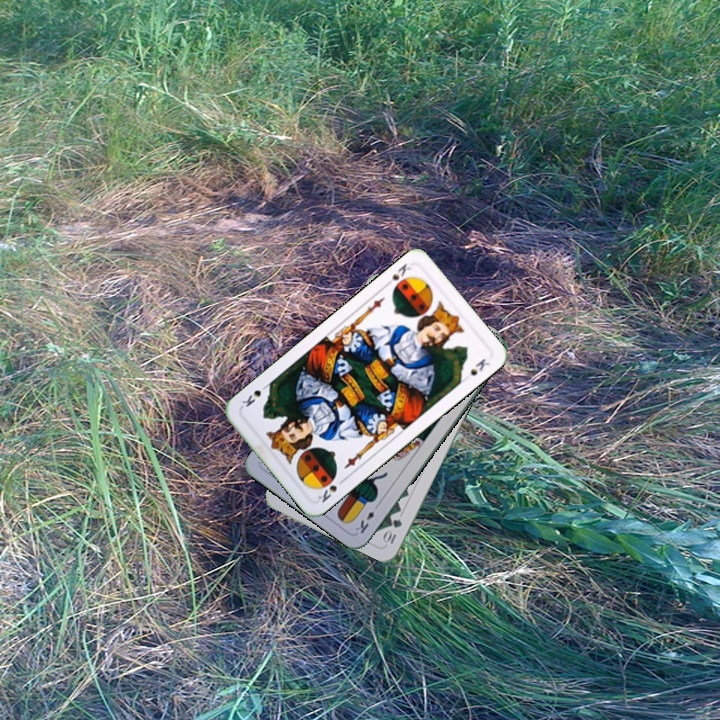EK: (351, 499, 382, 536)
G10: (380, 515, 405, 547)
SK: (314, 474, 348, 505), (381, 259, 414, 290)
